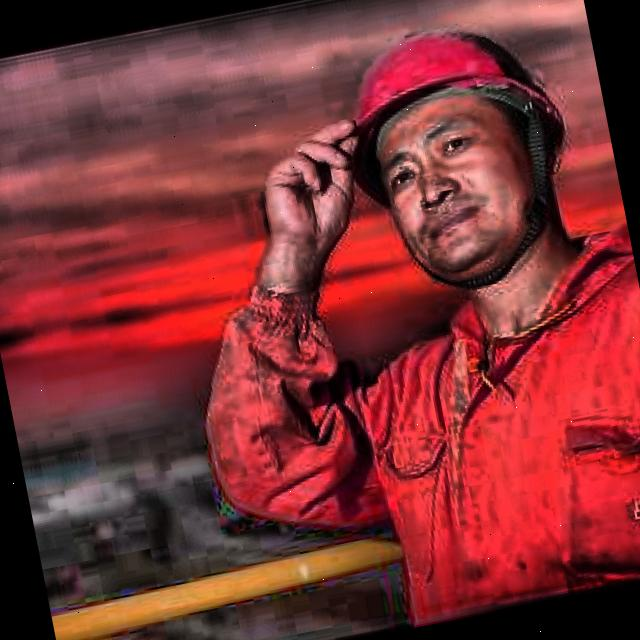helmet: (310, 0, 597, 320)
